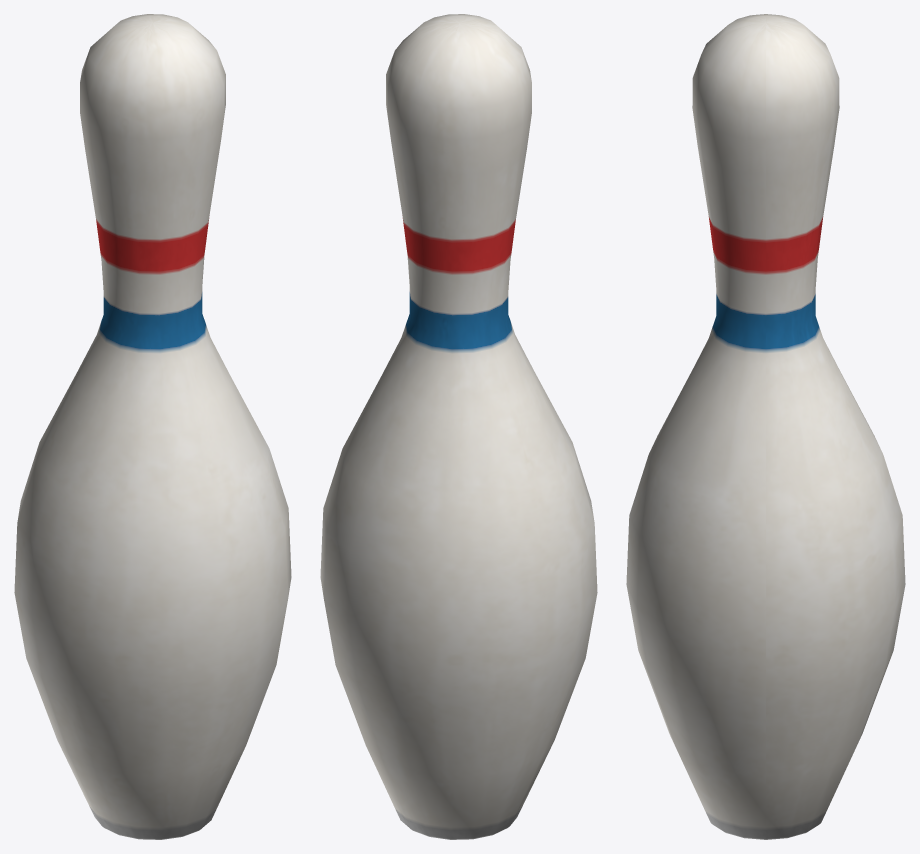
The model's file is low-poly-bowling-pins--arranged-2efa7b.glb.
3 renders of one model, left to right at view 1: azimuth 30°, elevation 25°; view 2: azimuth 150°, elevation 25°; view 3: azimuth 270°, elevation 25°, orthographic.
Parts seen in each view (by area): view 1: PropMesh; view 2: PropMesh; view 3: PropMesh.
Boxes of the visible parts, x1,y1,x2,y2 form: PropMesh: (14, 14, 291, 839); PropMesh: (320, 14, 597, 839); PropMesh: (626, 14, 905, 839).
Size of the model in its own units: 0.1211 by 0.38 by 0.1211.
1 material, 1 textured.
